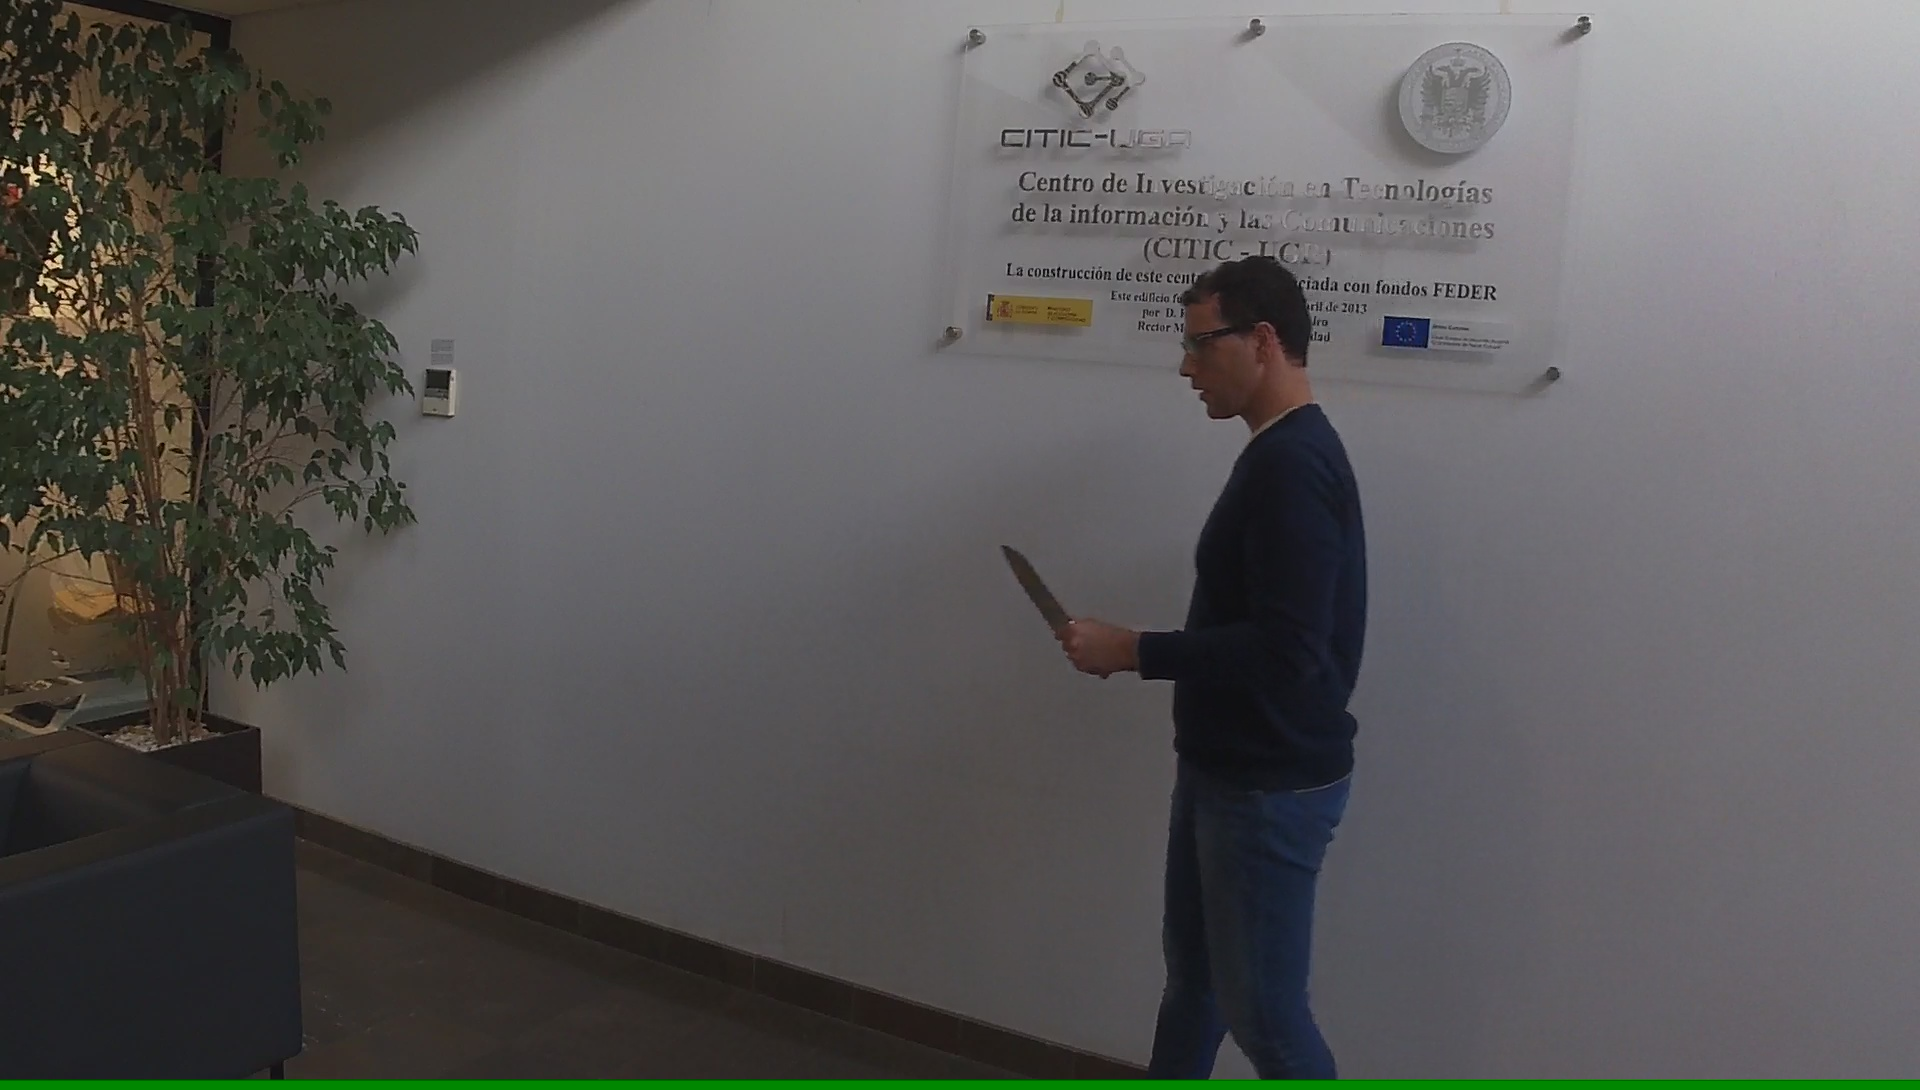knife: (994, 534, 1113, 685)
